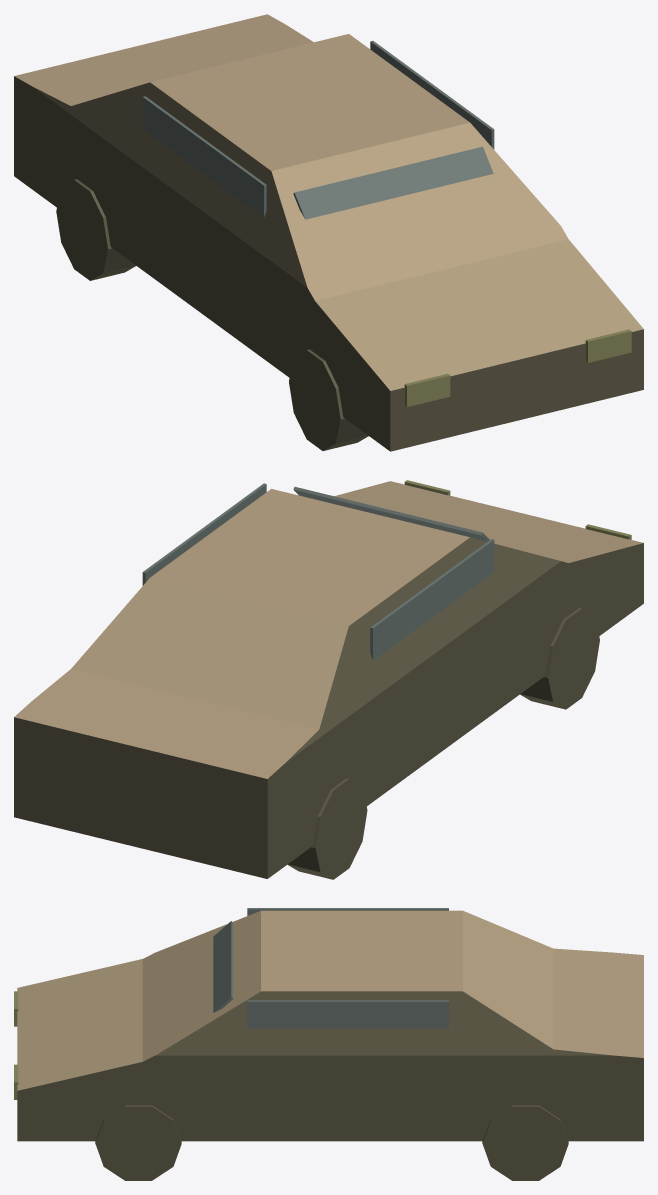
File: SM_CocheCivil_Berlina_v0_LOD0.fbx
The picture shows the model from 3 angles, top to bottom: view 1: azimuth 30°, elevation 25°; view 2: azimuth 150°, elevation 25°; view 3: azimuth 270°, elevation 25°; orthographic projection. The views are drawn at different scales.
Visible parts, largest first — view 1: SM_coche_civil_v5_LOD0; view 2: SM_coche_civil_v5_LOD0; view 3: SM_coche_civil_v5_LOD0.
Part boxes in pixels (x1=…): SM_coche_civil_v5_LOD0: x1=14, y1=14, x2=643, y2=451; SM_coche_civil_v5_LOD0: x1=14, y1=480, x2=643, y2=879; SM_coche_civil_v5_LOD0: x1=14, y1=908, x2=643, y2=1180.
Bounding box in the file's own units: 1.79 × 1.4 × 4.53.
